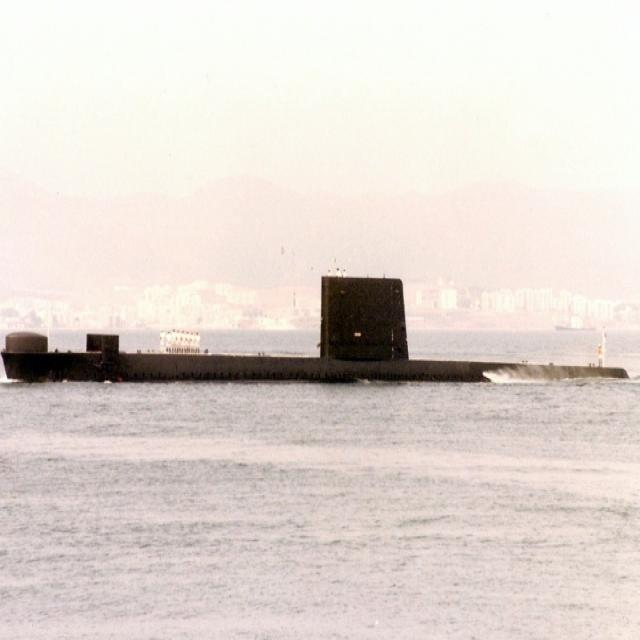submarine: (8, 276, 629, 383)
